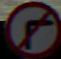Don't turn right: (16, 6, 55, 46)
